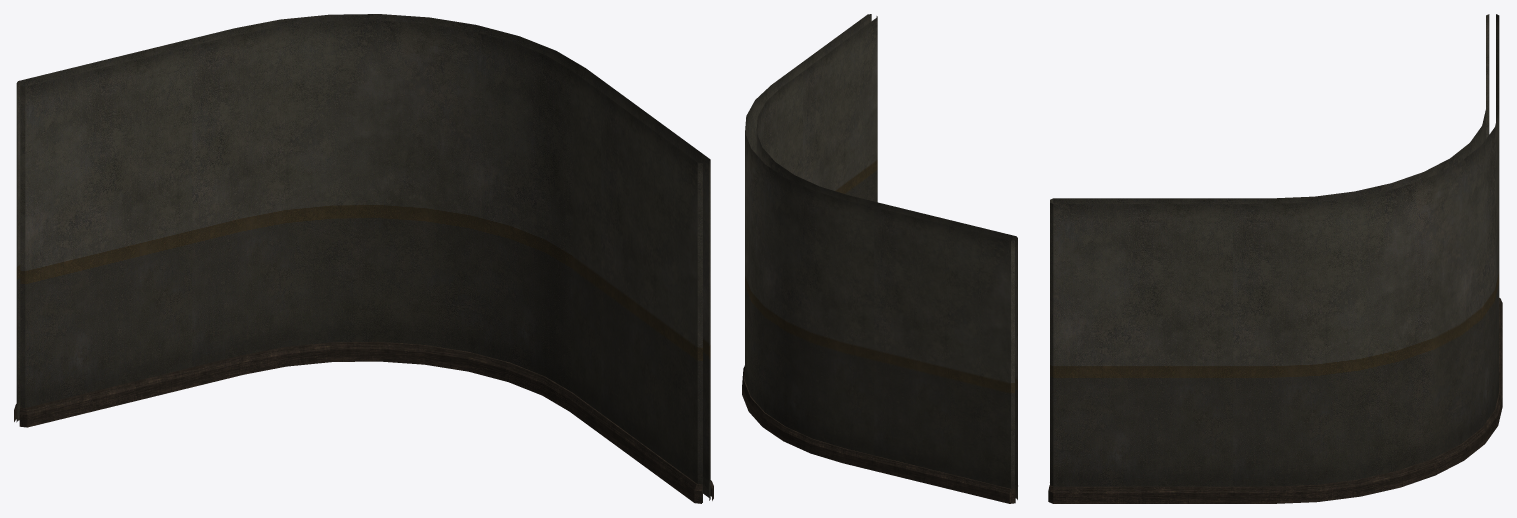
Rendered from wall_1_rounded_corner_1.obj.
3 renders of one model, left to right at view 1: azimuth 30°, elevation 25°; view 2: azimuth 150°, elevation 25°; view 3: azimuth 270°, elevation 25°, orthographic. The views are drawn at different scales.
Visible parts, largest first — view 1: wall_1_rounded_corner_1; view 2: wall_1_rounded_corner_1; view 3: wall_1_rounded_corner_1.
Boxes of the visible parts, <box> form: wall_1_rounded_corner_1: <box>14,14,713,503</box>; wall_1_rounded_corner_1: <box>742,14,1017,503</box>; wall_1_rounded_corner_1: <box>1048,14,1502,503</box>.
Size of the model in its own units: 4.13 by 3 by 4.13.
